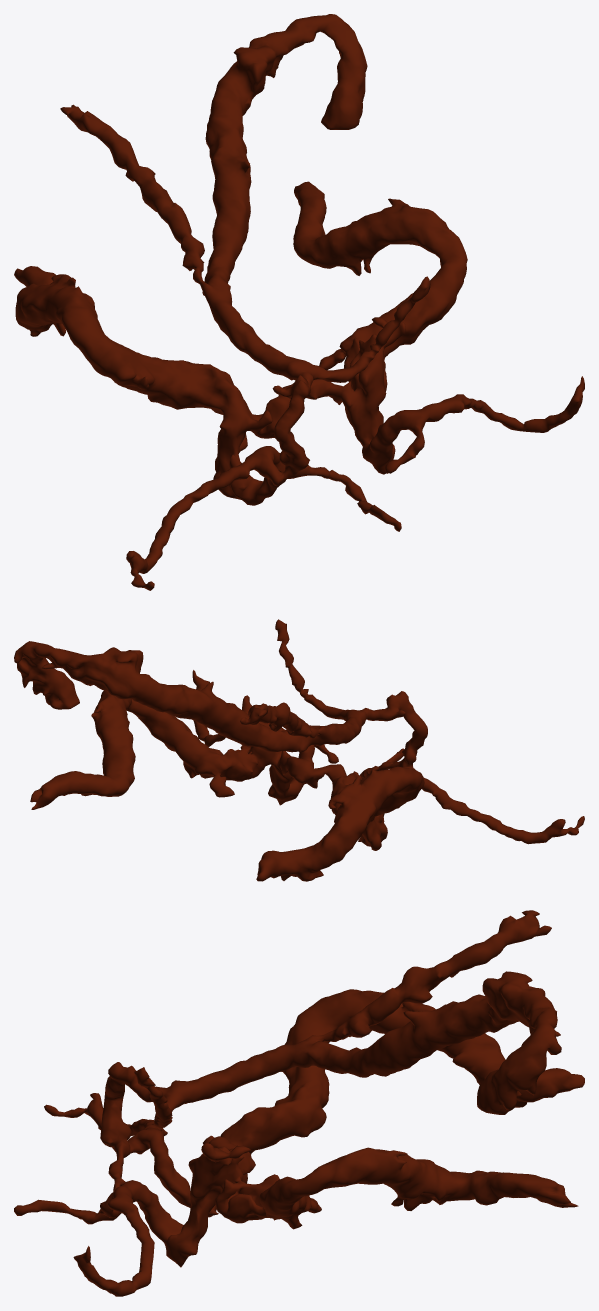
Rendered from Arteries.obj.
3 renders of one model, top to bottom at view 1: azimuth 30°, elevation 25°; view 2: azimuth 150°, elevation 25°; view 3: azimuth 270°, elevation 25°, orthographic. The views are drawn at different scales.
Visible parts, largest first — view 1: grp1; view 2: grp1; view 3: grp1.
Boxes of the visible parts, box(x1,y1,x2,y2) form: grp1: box(14, 14, 584, 590); grp1: box(14, 619, 584, 881); grp1: box(14, 910, 584, 1296).
Bounding box in the file's own units: 83.56 × 53.63 × 88.18.
